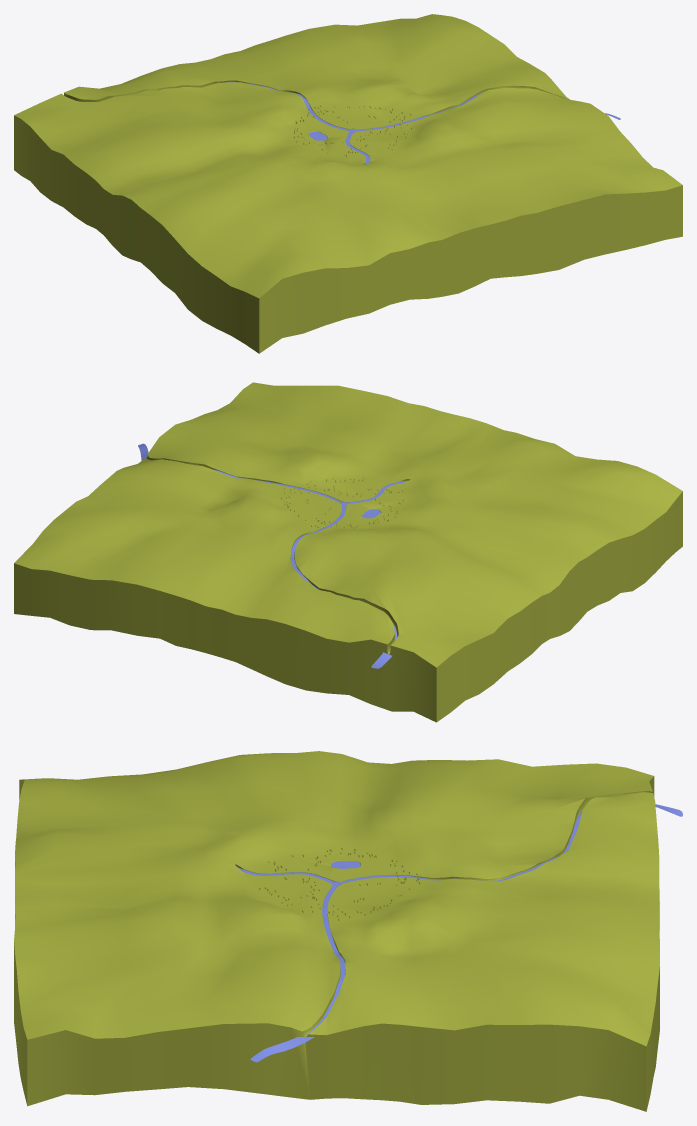
Rendered from Map-V3.glb.
3 renders of one model, top to bottom at view 1: azimuth 30°, elevation 25°; view 2: azimuth 150°, elevation 25°; view 3: azimuth 270°, elevation 25°, orthographic. The views are drawn at different scales.
Parts seen in each view (by area): view 1: Map, Water; view 2: Map, Water; view 3: Map, Water.
Boxes of the visible parts, x1,y1,x2,y2 form: Map: (14, 14, 682, 353); Water: (225, 82, 620, 164); Map: (14, 382, 682, 722); Water: (138, 443, 407, 668); Map: (14, 751, 659, 1111); Water: (236, 804, 682, 1062).
Bounding box in the file's own units: 1403 × 255 × 1354.
2 materials, 1 textured.
